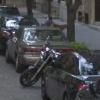Motorcycle: (16, 42, 65, 94)
